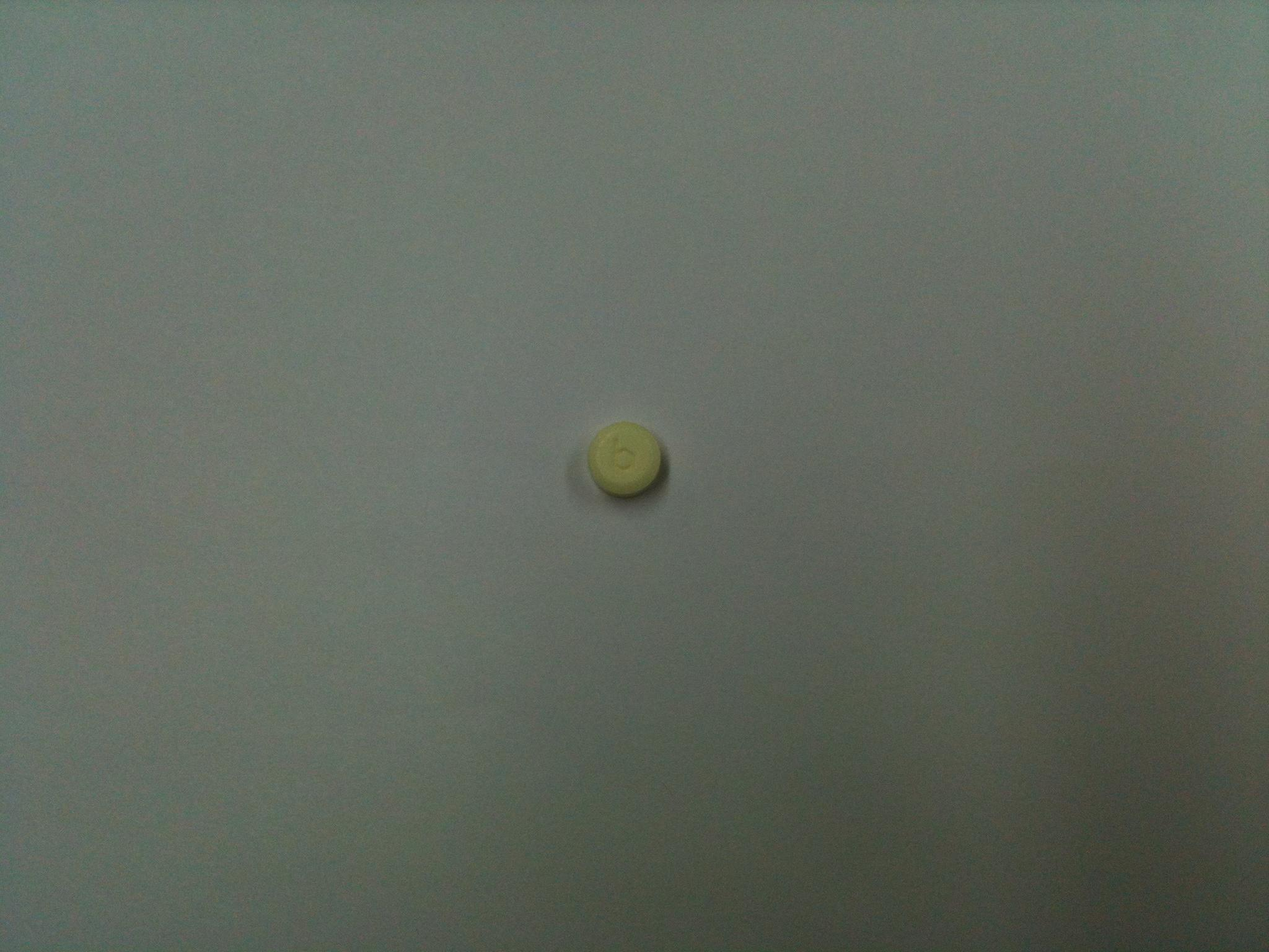Pill: (576, 415, 673, 512)
